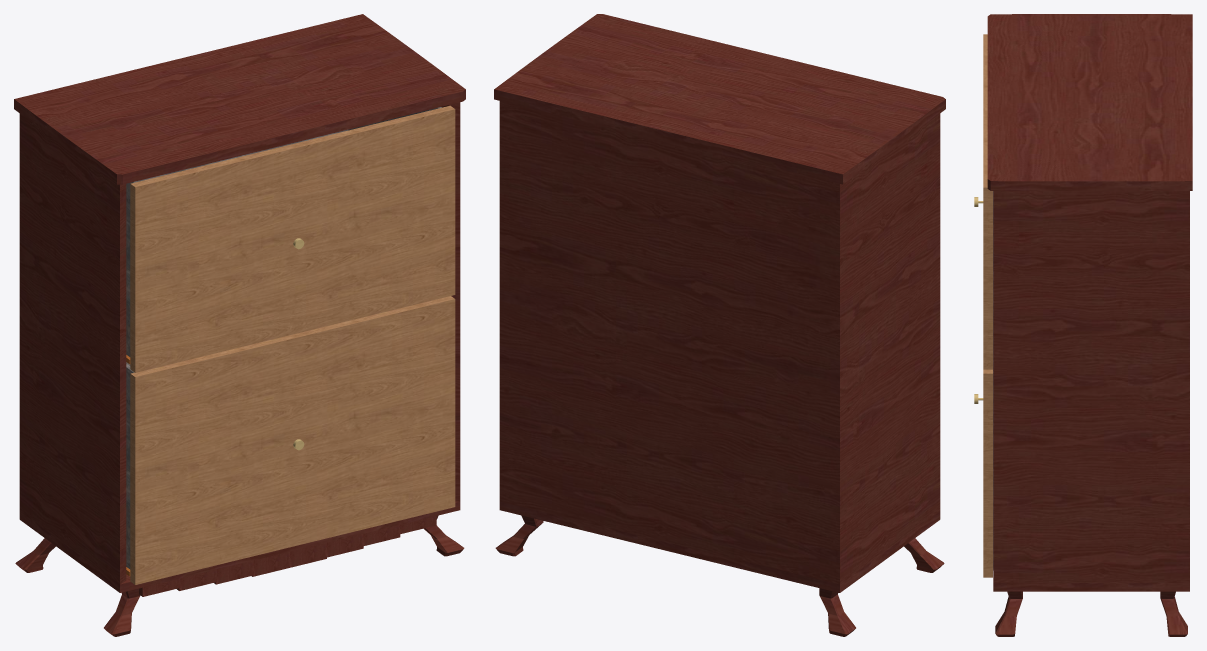
Rendered from drawer_cabinet_with_sliding_drawers__0000.glb.
3 views of the same model, side by side, from view 1: azimuth 30°, elevation 25°; view 2: azimuth 150°, elevation 25°; view 3: azimuth 270°, elevation 25° (orthographic).
Parts seen in each view (by area): view 1: drawer_front__flat_panel__drawer_0::drawer_front__flat_panel (×2), drawer_front__flat_panel__drawer_1::drawer_front__flat_panel (×2), carcass::body_form__rect_case__case_shell, carcass::body_form__rect_case__top_slab, carcass::body_form__rect_case__base_panel, carcass::support_base__cabriole_apron__cabriole_0__shaped_le, carcass::support_base__cabriole_apron__cabriole_2__shaped_le, carcass::support_base__cabriole_apron__apron_3; view 2: carcass::body_form__rect_case__case_shell, carcass::body_form__rect_case__top_slab, carcass::body_form__rect_case__base_panel, carcass::support_base__cabriole_apron__cabriole_2__shaped_le, carcass::support_base__cabriole_apron__cabriole_3__shaped_le, carcass::support_base__cabriole_apron__cabriole_0__shaped_le; view 3: carcass::body_form__rect_case__case_shell, carcass::body_form__rect_case__top_slab, drawer_front__flat_panel__drawer_1::drawer_front__flat_panel, drawer_front__flat_panel__drawer_0::drawer_front__flat_panel, carcass::body_form__rect_case__base_panel, carcass::support_base__cabriole_apron__cabriole_1__shaped_le, carcass::support_base__cabriole_apron__cabriole_3__shaped_le.
Boxes of the visible parts, x1,y1,x2,y2 form: drawer_front__flat_panel__drawer_0::drawer_front__flat_panel (×2): (126, 296, 455, 584); drawer_front__flat_panel__drawer_1::drawer_front__flat_panel (×2): (126, 105, 455, 372); carcass::body_form__rect_case__case_shell: (19, 102, 460, 584); carcass::body_form__rect_case__top_slab: (14, 14, 465, 184); carcass::body_form__rect_case__base_panel: (19, 501, 460, 592); carcass::support_base__cabriole_apron__cabriole_0__shaped_le: (104, 588, 140, 636); carcass::support_base__cabriole_apron__cabriole_2__shaped_le: (15, 538, 55, 572); carcass::support_base__cabriole_apron__apron_3: (251, 552, 289, 576); carcass::body_form__rect_case__case_shell: (499, 101, 940, 584); carcass::body_form__rect_case__top_slab: (494, 14, 945, 184); carcass::body_form__rect_case__base_panel: (499, 501, 940, 592); carcass::support_base__cabriole_apron__cabriole_2__shaped_le: (819, 588, 855, 636); carcass::support_base__cabriole_apron__cabriole_3__shaped_le: (495, 515, 543, 556); carcass::support_base__cabriole_apron__cabriole_0__shaped_le: (904, 538, 944, 572); carcass::body_form__rect_case__case_shell: (993, 191, 1189, 582); carcass::body_form__rect_case__top_slab: (987, 14, 1192, 191); drawer_front__flat_panel__drawer_1::drawer_front__flat_panel: (983, 34, 992, 369); drawer_front__flat_panel__drawer_0::drawer_front__flat_panel: (983, 369, 992, 577); carcass::body_form__rect_case__base_panel: (993, 583, 1189, 591); carcass::support_base__cabriole_apron__cabriole_1__shaped_le: (995, 591, 1022, 636); carcass::support_base__cabriole_apron__cabriole_3__shaped_le: (1160, 591, 1187, 636).
Bounding box in the file's own units: 1.03 × 1.3 × 0.5619.
Materials: 5 (5 with a texture image).
